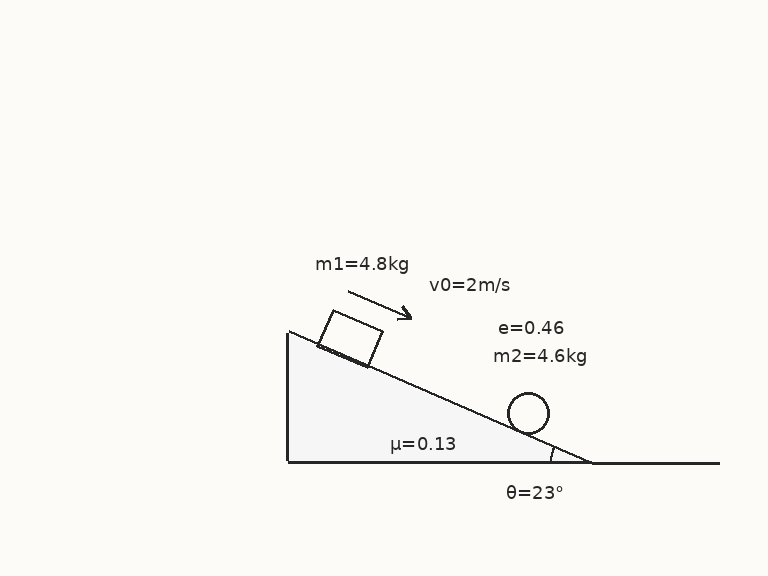ball: (505, 390, 551, 436)
block: (315, 308, 383, 369)
ramp: (285, 331, 593, 464)
